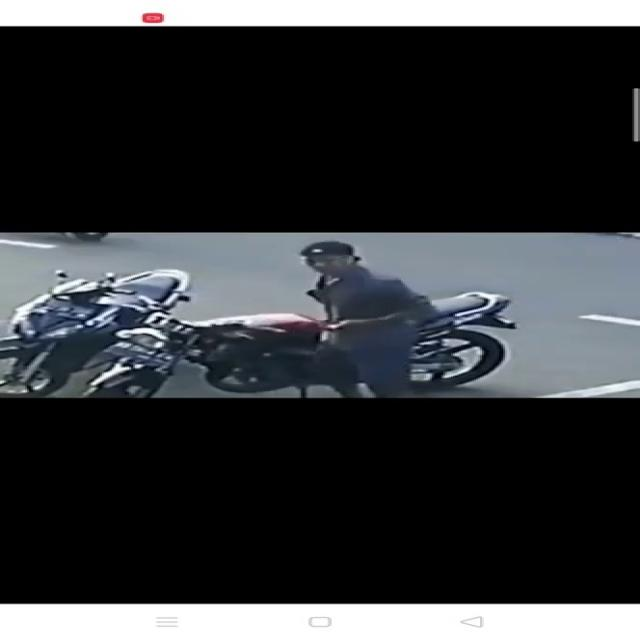pencurian: (118, 241, 520, 400)
